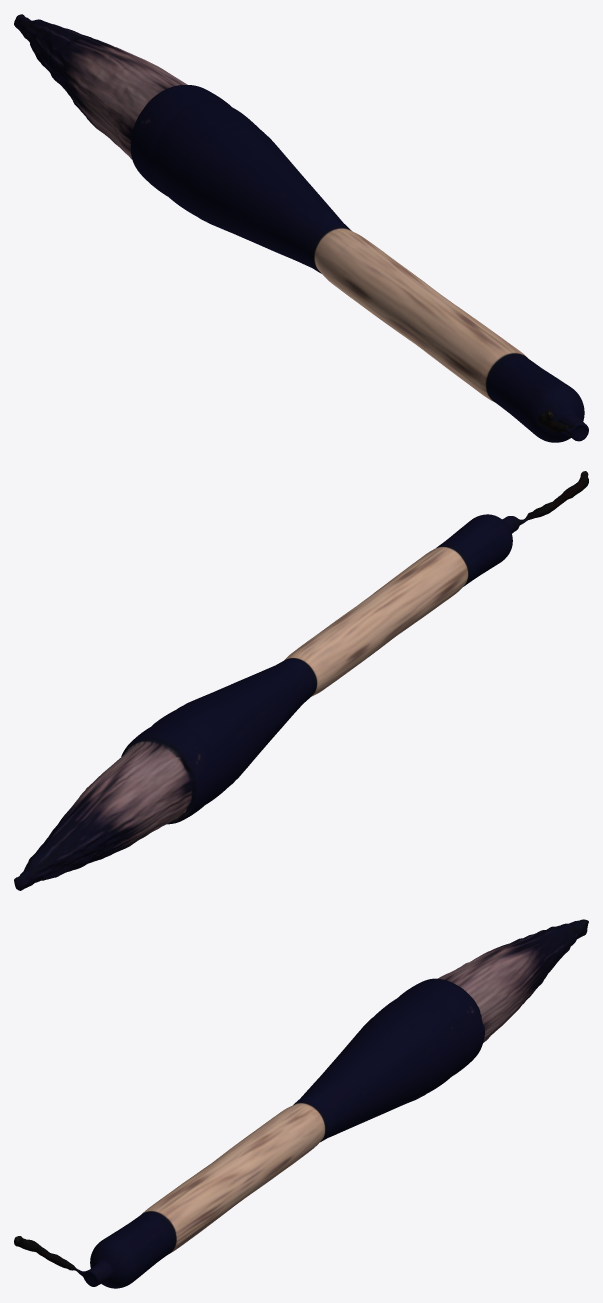
Rendered from brush.fbx.
3 views of the same model, one above another, from view 1: azimuth 30°, elevation 25°; view 2: azimuth 150°, elevation 25°; view 3: azimuth 330°, elevation 25° (orthographic). The views are drawn at different scales.
Visible parts, largest first — view 1: tripo_node_bb0d96f7; view 2: tripo_node_bb0d96f7; view 3: tripo_node_bb0d96f7.
Boxes of the visible parts, <box> form: tripo_node_bb0d96f7: <box>14,14,588,442</box>; tripo_node_bb0d96f7: <box>14,471,588,890</box>; tripo_node_bb0d96f7: <box>14,919,588,1288</box>.
Bounding box in the file's own units: 11.08 × 9.81 × 100.
